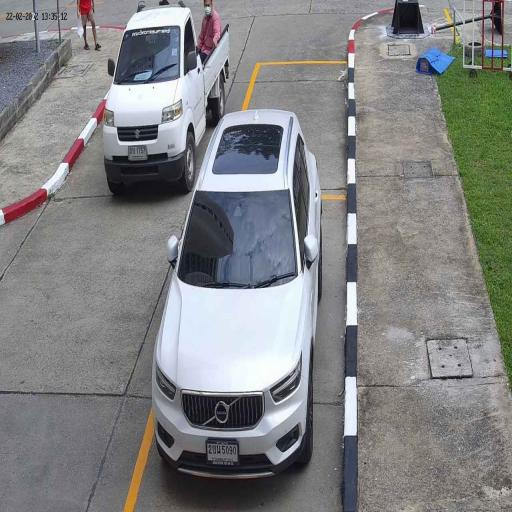car: (152, 110, 326, 486), (101, 6, 232, 186)
